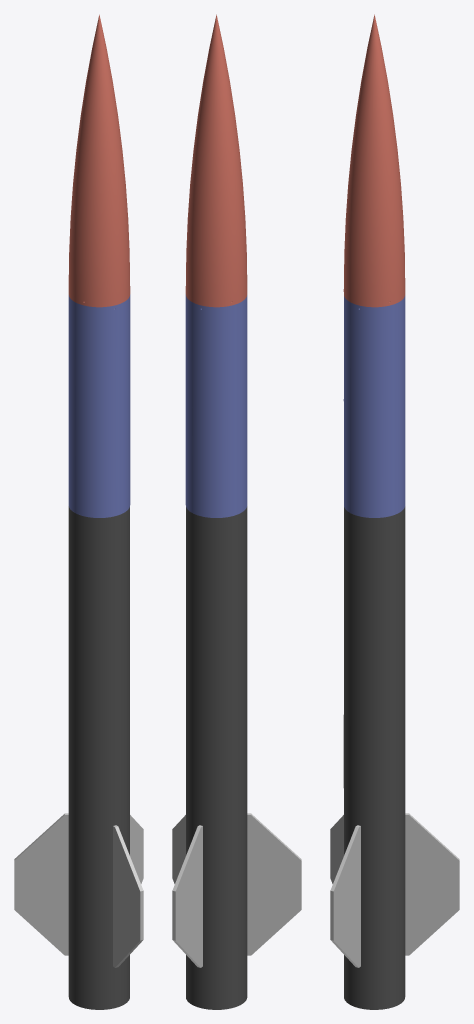
The model's file is rocket.glb.
The picture shows the model from 3 angles, left to right: view 1: azimuth 30°, elevation 25°; view 2: azimuth 210°, elevation 25°; view 3: azimuth 330°, elevation 25°; orthographic projection.
Parts seen in each view (by area): view 1: Body1, Body1.005, Body1.001, Body1.002, Body1.004, Body1.003; view 2: Body1, Body1.005, Body1.001, Body1.002, Body1.003, Body1.004; view 3: Body1, Body1.005, Body1.001, Body1.003, Body1.004, Body1.002.
Boxes of the visible parts, left/top/right/bottom form: Body1: left=68, top=506, right=129, bottom=1009; Body1.005: left=68, top=294, right=130, bottom=517; Body1.001: left=68, top=14, right=130, bottom=307; Body1.002: left=14, top=813, right=68, bottom=955; Body1.004: left=113, top=825, right=143, bottom=967; Body1.003: left=130, top=815, right=143, bottom=883; Body1: left=186, top=506, right=247, bottom=1009; Body1.005: left=185, top=294, right=247, bottom=517; Body1.001: left=185, top=14, right=247, bottom=307; Body1.002: left=247, top=813, right=301, bottom=955; Body1.003: left=172, top=825, right=202, bottom=967; Body1.004: left=172, top=815, right=185, bottom=883; Body1: left=343, top=506, right=405, bottom=1009; Body1.005: left=343, top=295, right=405, bottom=517; Body1.001: left=343, top=14, right=405, bottom=307; Body1.003: left=405, top=813, right=459, bottom=955; Body1.004: left=330, top=825, right=360, bottom=967; Body1.002: left=330, top=815, right=343, bottom=883.
Bounding box in the file's own units: 0.1925 × 1.4 × 0.1667.
